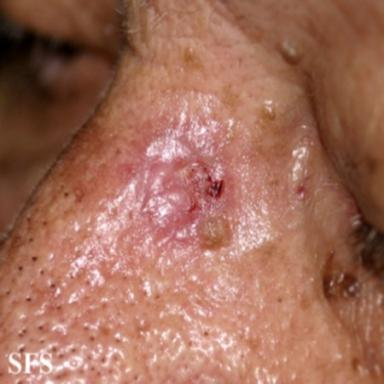basal-cell-carcinoma: (140, 130, 223, 235)
